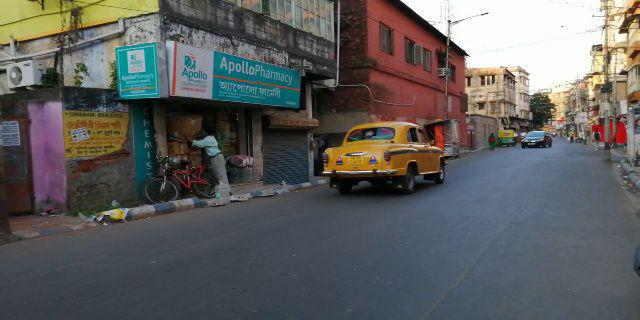Autorickshaw: (493, 127, 516, 149)
Car: (319, 120, 447, 196), (518, 127, 553, 151)
Cycle: (139, 153, 223, 202)
